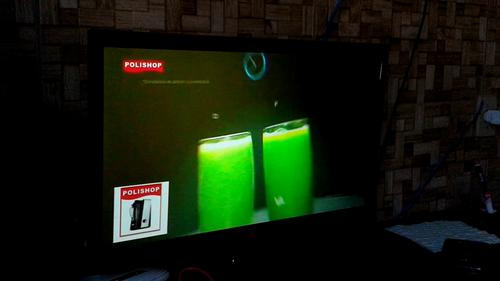Polishop #1: (112, 180, 168, 242)
